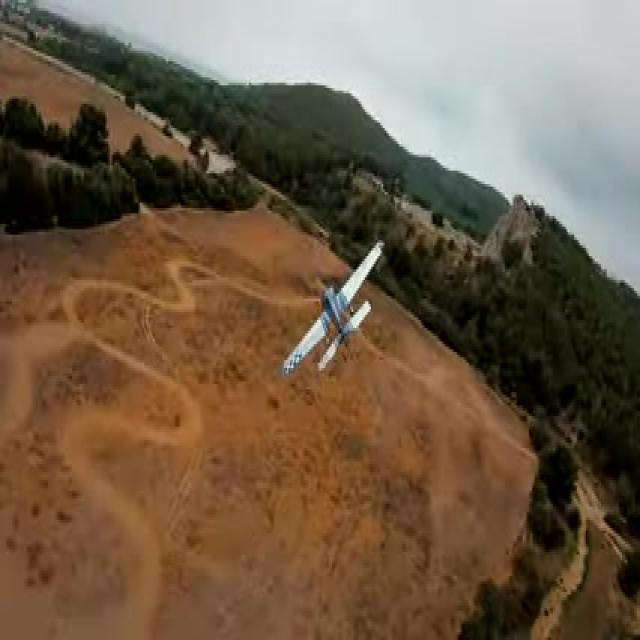iha: (305, 240, 346, 374)
